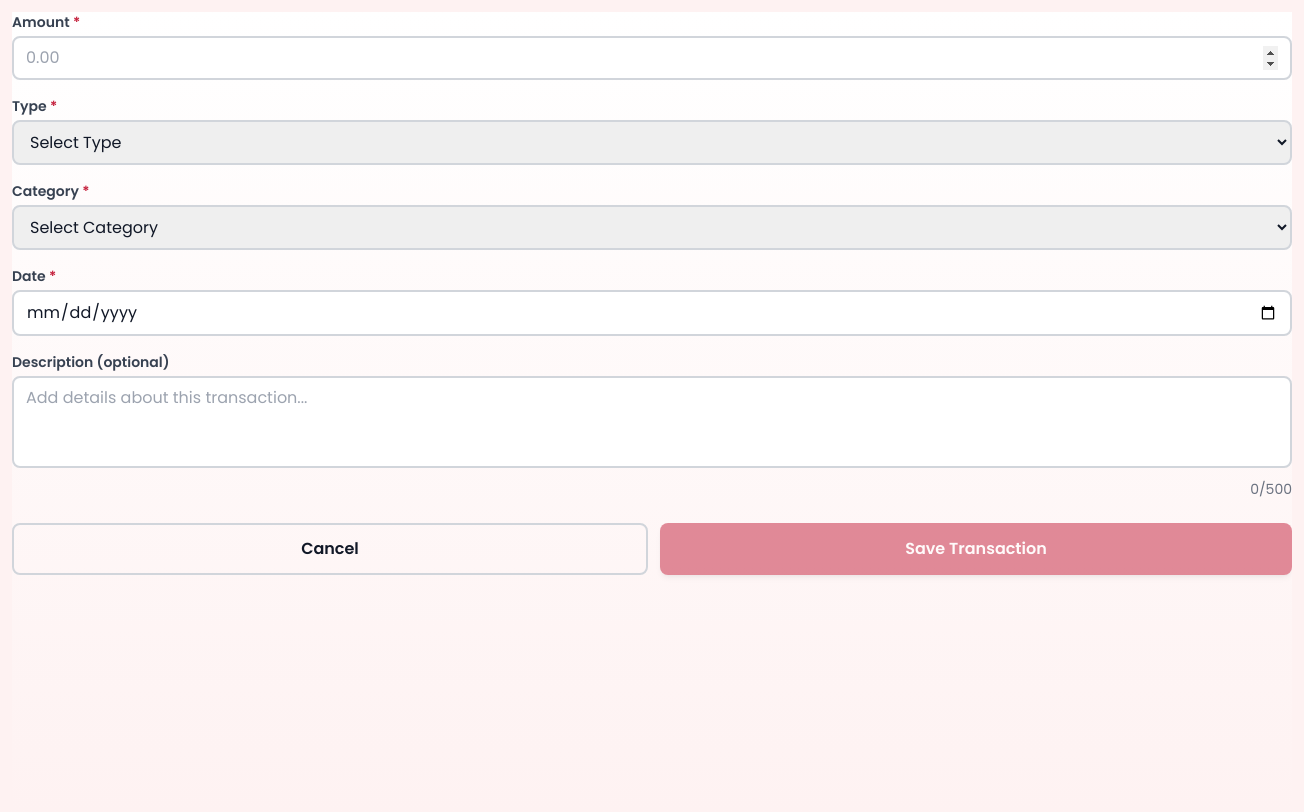
TransactionForm › should show character count for description
Check: the text "0/500" is shown, box [1250,479,1292,499]
# Type some text
Type "Hello" into the text box labelled "Description (optional)" at (652, 422), box [12,376,1292,468]
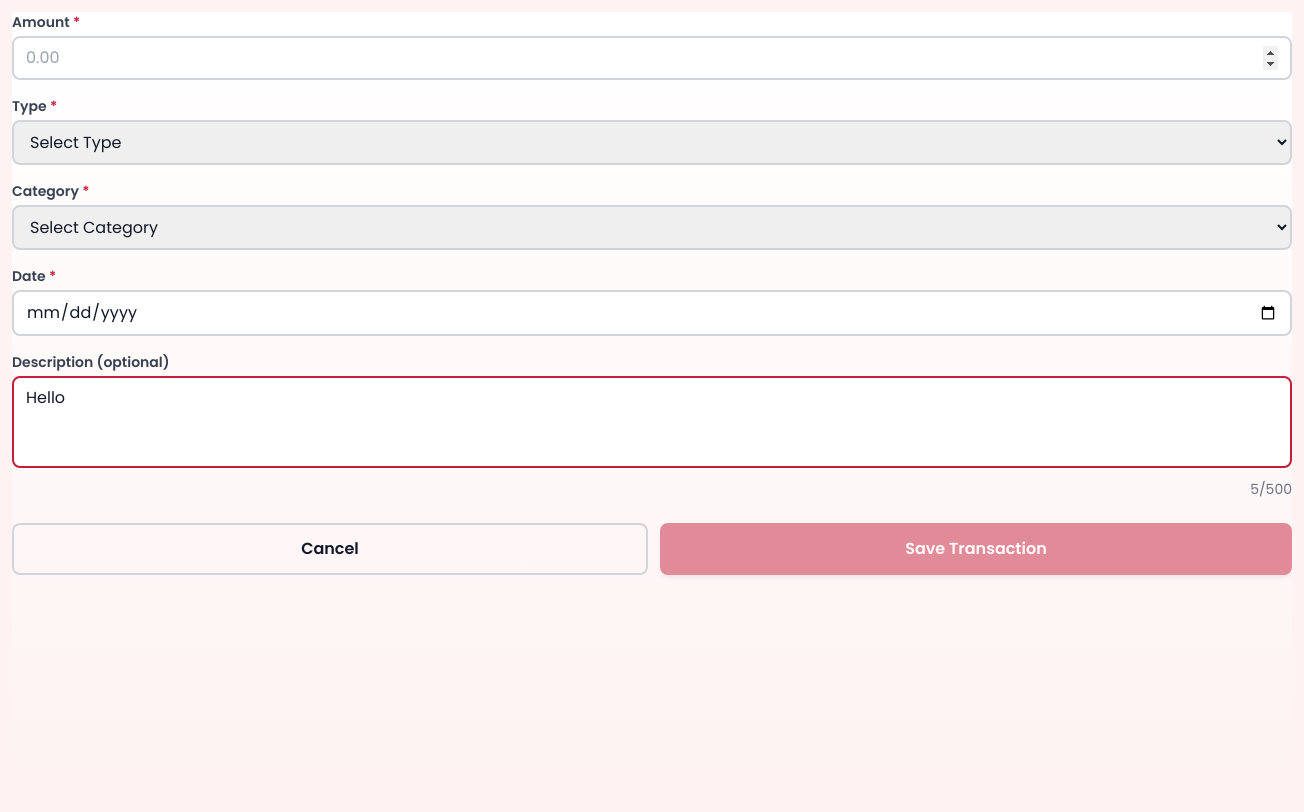
Check: the text "5/500" is shown, box [1250,479,1292,499]
